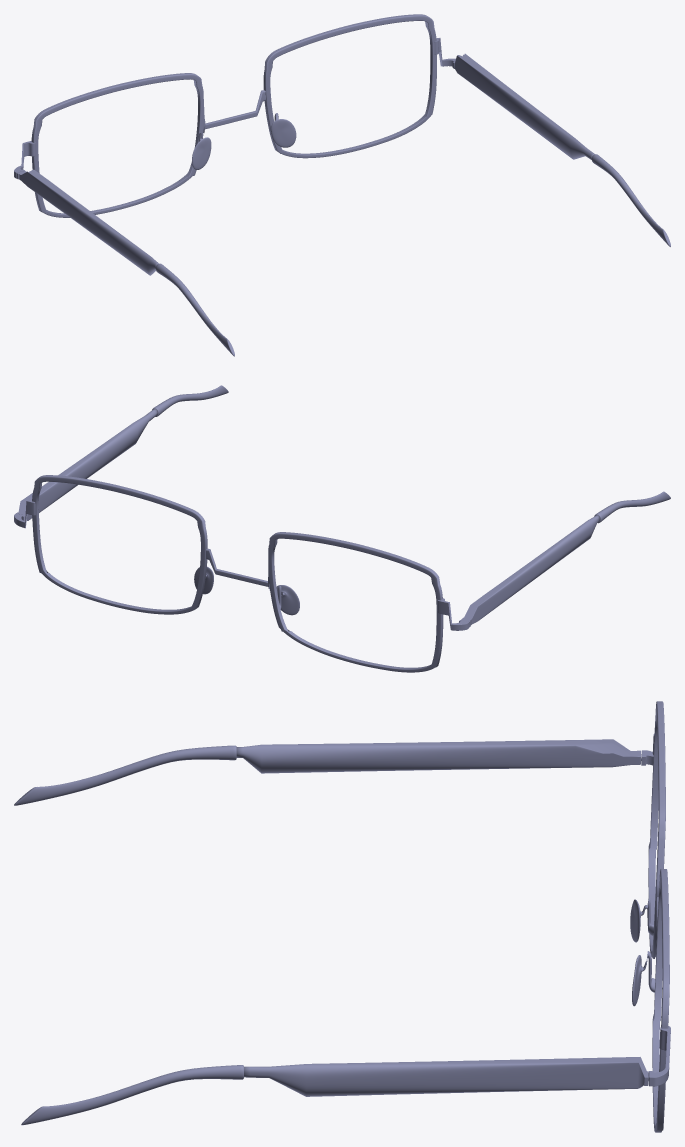
3 renders of one model, top to bottom at view 1: azimuth 30°, elevation 25°; view 2: azimuth 150°, elevation 25°; view 3: azimuth 270°, elevation 25°, orthographic. The views are drawn at different scales.
Parts seen in each view (by area): view 1: _Metal_Frame_Reading_Glasses_V2_Max2011_iterations_2:_Metal_; view 2: _Metal_Frame_Reading_Glasses_V2_Max2011_iterations_2:_Metal_; view 3: _Metal_Frame_Reading_Glasses_V2_Max2011_iterations_2:_Metal_.
Part boxes in pixels (x1=…): _Metal_Frame_Reading_Glasses_V2_Max2011_iterations_2:_Metal_: x1=14, y1=14, x2=670, y2=356; _Metal_Frame_Reading_Glasses_V2_Max2011_iterations_2:_Metal_: x1=14, y1=385, x2=670, y2=672; _Metal_Frame_Reading_Glasses_V2_Max2011_iterations_2:_Metal_: x1=14, y1=701, x2=670, y2=1132.
Bounding box in the file's own units: 16 × 4.18 × 13.52.
